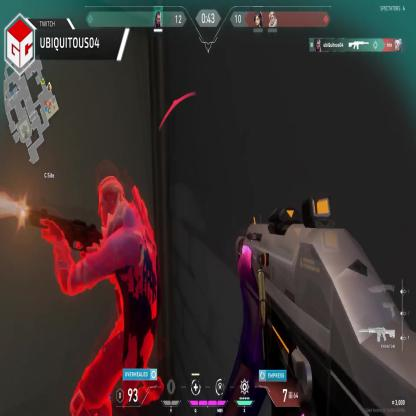enemy: (42, 175, 164, 416)
enemy_head: (96, 179, 126, 235)
